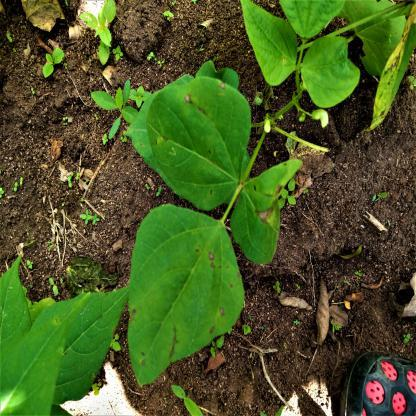Beans_Angular_LeafSpot: (127, 227, 240, 375), (136, 70, 228, 184), (240, 159, 298, 260)
